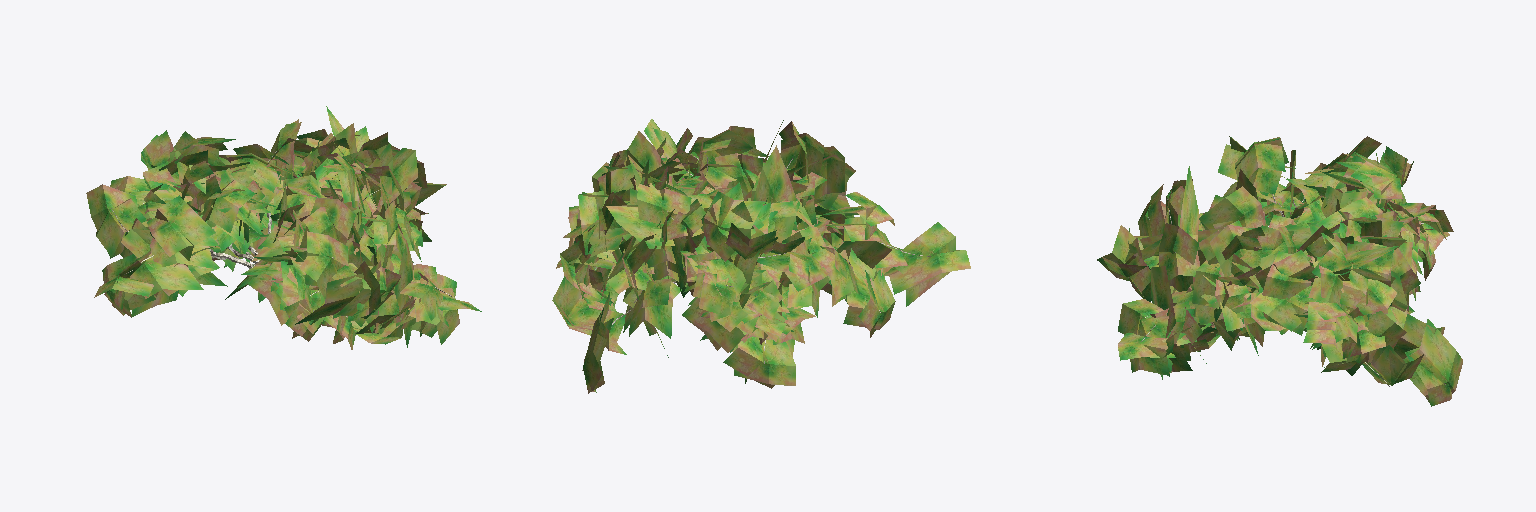
The picture shows the model from 3 angles: view 1: azimuth 30°, elevation 25°; view 2: azimuth 150°, elevation 25°; view 3: azimuth 270°, elevation 25°; orthographic projection.
Visible parts, largest first — view 1: Bush_1_2; view 2: Bush_1_2; view 3: Bush_1_2.
Part boxes in pixels (x1,y1,x2,y2): Bush_1_2: (86, 106, 481, 349); Bush_1_2: (552, 119, 970, 393); Bush_1_2: (1097, 136, 1462, 406).
Size of the model in its own units: 0.6237 by 0.3404 by 0.5426.
1 materials, 1 textured.